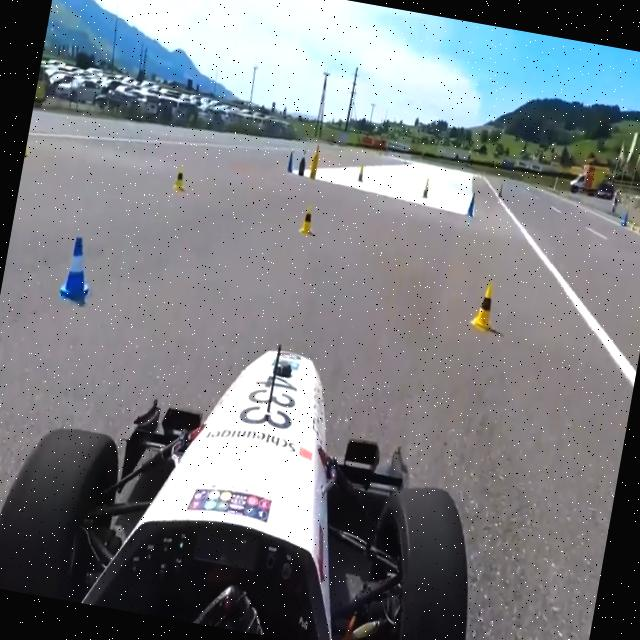blue_cone: (55, 230, 101, 306)
yellow_cone: (468, 278, 502, 334), (298, 202, 319, 237), (172, 168, 188, 193), (24, 134, 32, 158)
